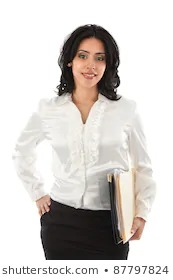F_shirt: (12, 88, 157, 220)
F_tailored skirt: (38, 199, 132, 259)
